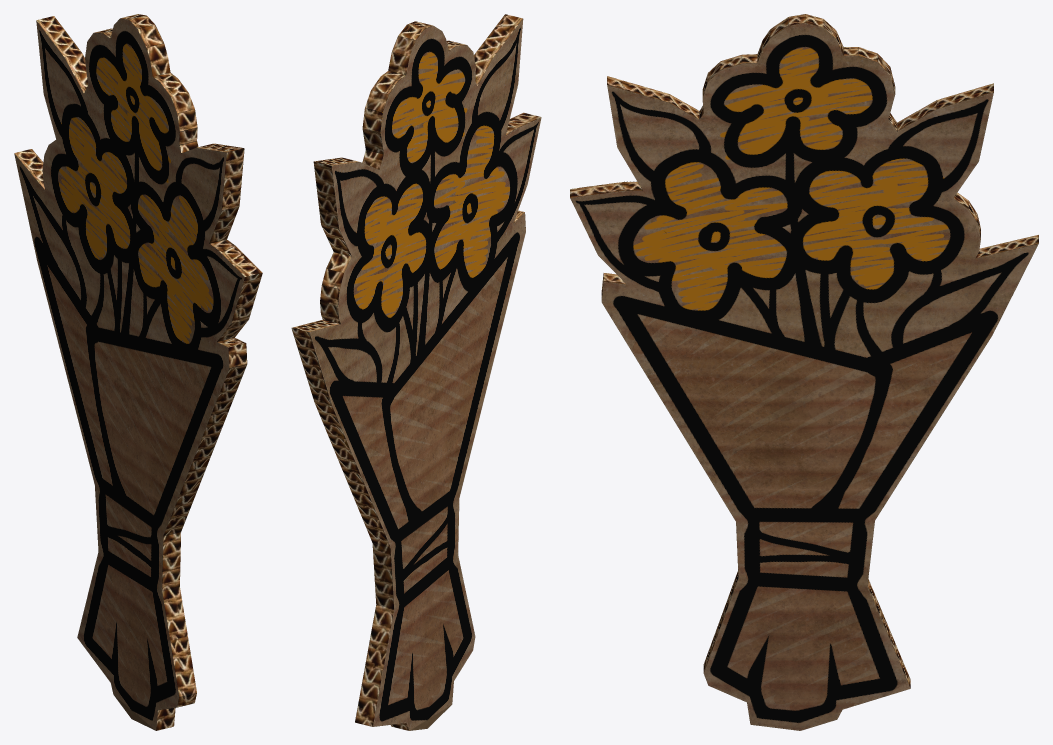
File: flowers.fbx
3 views of the same model, side by side, from view 1: azimuth 30°, elevation 25°; view 2: azimuth 150°, elevation 25°; view 3: azimuth 270°, elevation 25° (orthographic).
Parts seen in each view (by area): view 1: Extruded.003; view 2: Extruded.003; view 3: Extruded.003.
Boxes of the visible parts, x1,y1,x2,y2 form: Extruded.003: (14,14,262,730); Extruded.003: (291,14,541,730); Extruded.003: (570,14,1038,730).
Bounding box in the file's own units: 2.35 × 87.57 × 52.55.
1 material, 1 textured.
